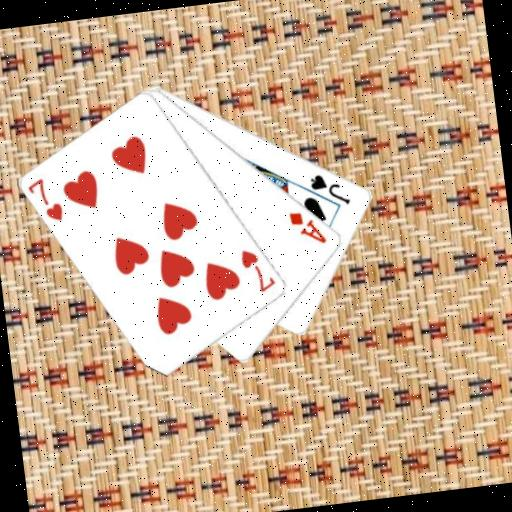7H: (24, 173, 67, 226), (237, 244, 278, 297)
AD: (286, 206, 330, 250)
JS: (306, 168, 353, 211)
